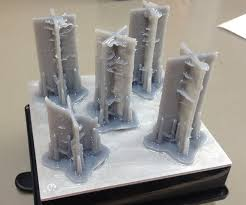fail: (48, 16, 80, 101), (109, 39, 123, 121), (181, 62, 193, 117)
